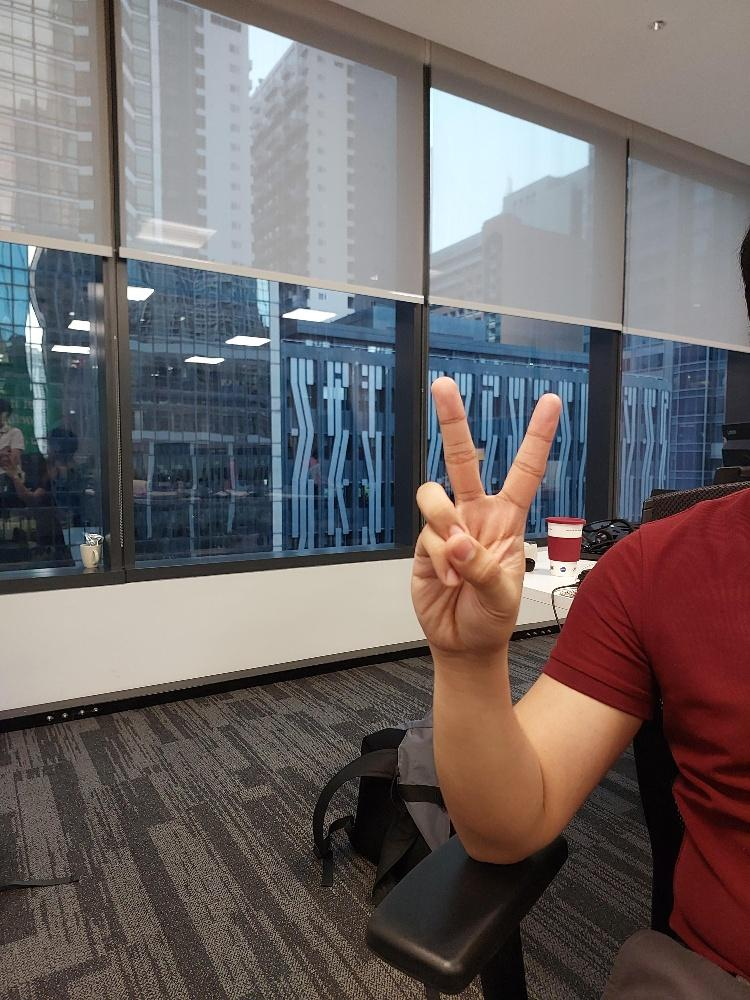v: (406, 373, 564, 658)
